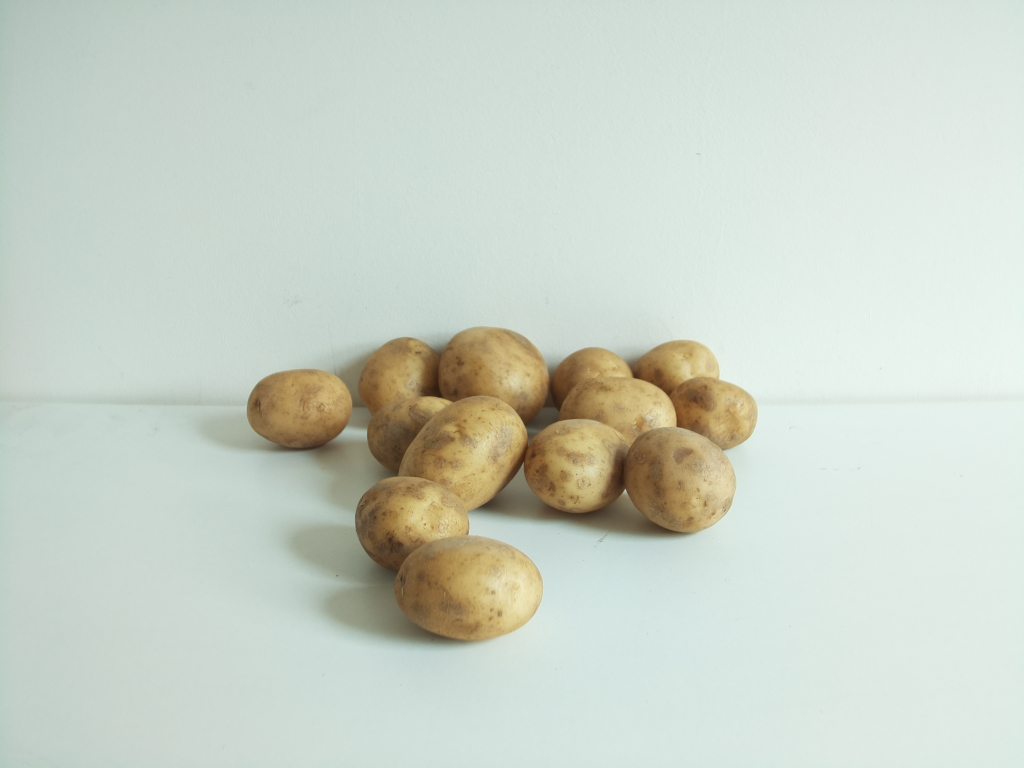potatoes: (245, 324, 759, 642)
